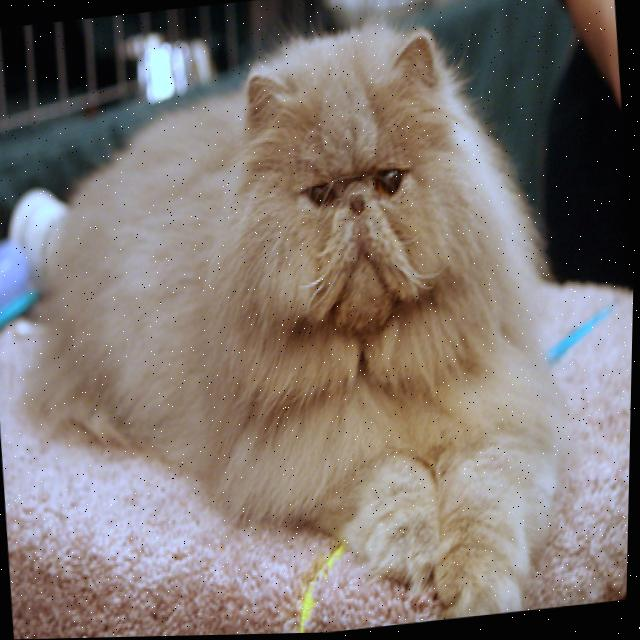Persian: (0, 0, 593, 640)
